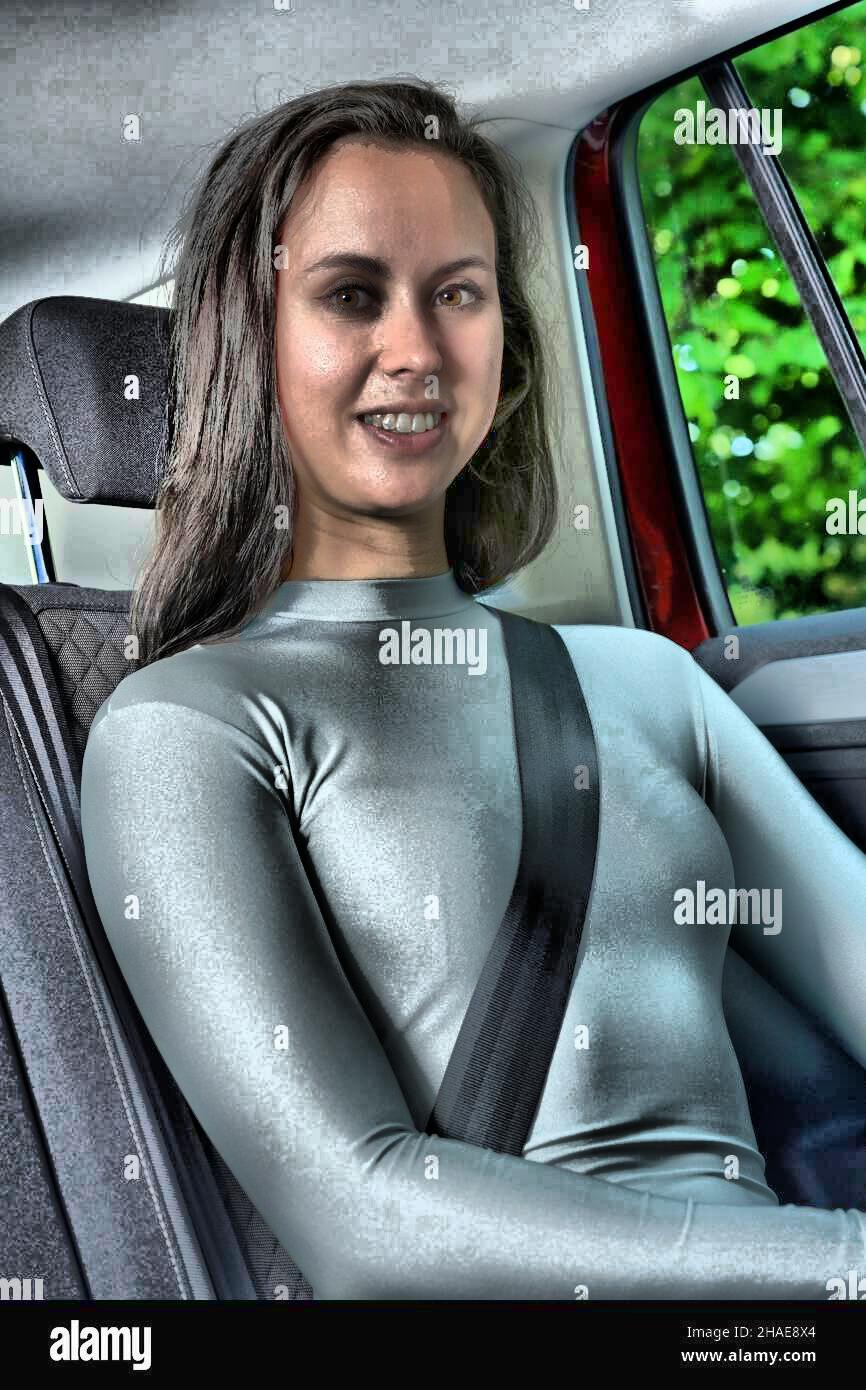seatbelt: (423, 581, 627, 1169)
